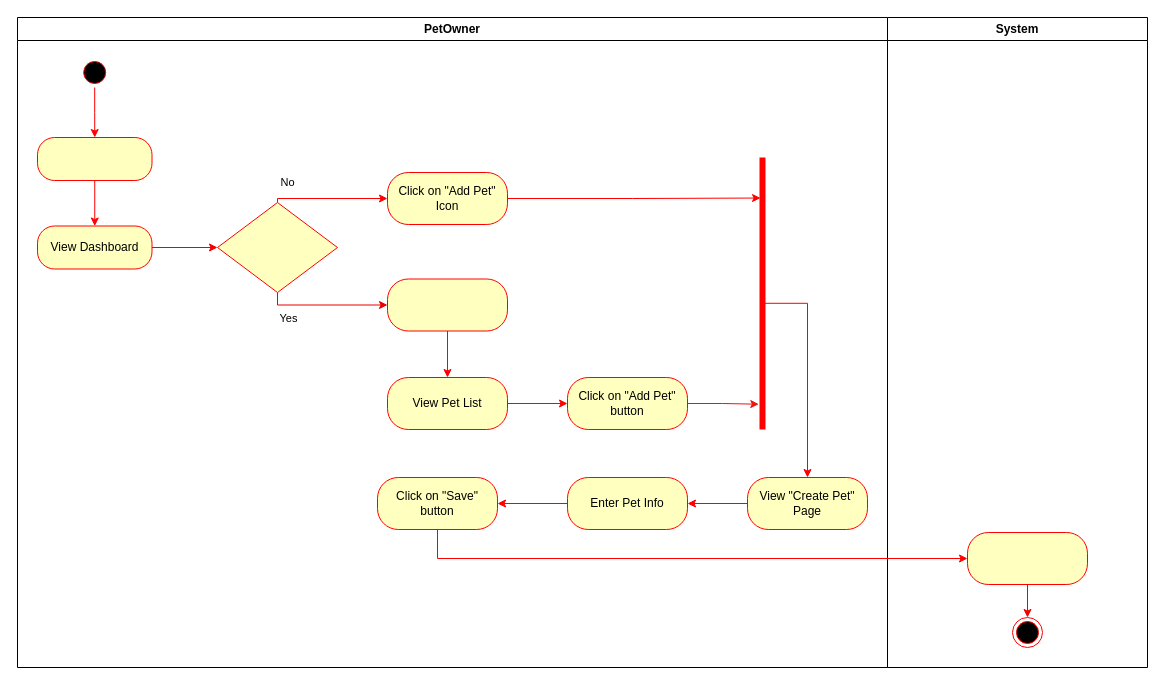
This 1165x685 diagram has some shape labels left out. Here are the shapes that lost their labels. From the top down, the centre of each, then its label:
the point at 94,158: Login
the point at 277,247: Does User have a Pet?
the point at 447,304: Click on "My Pets"
the point at 1027,558: Save Pet to the Database
